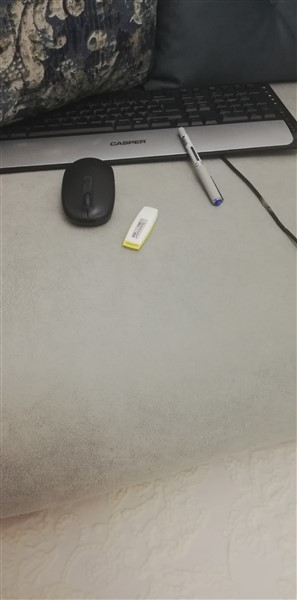flash disk: (122, 204, 159, 257)
klavye: (1, 78, 294, 172)
mouse: (59, 154, 117, 230)
pilot kalem: (174, 127, 228, 212)
